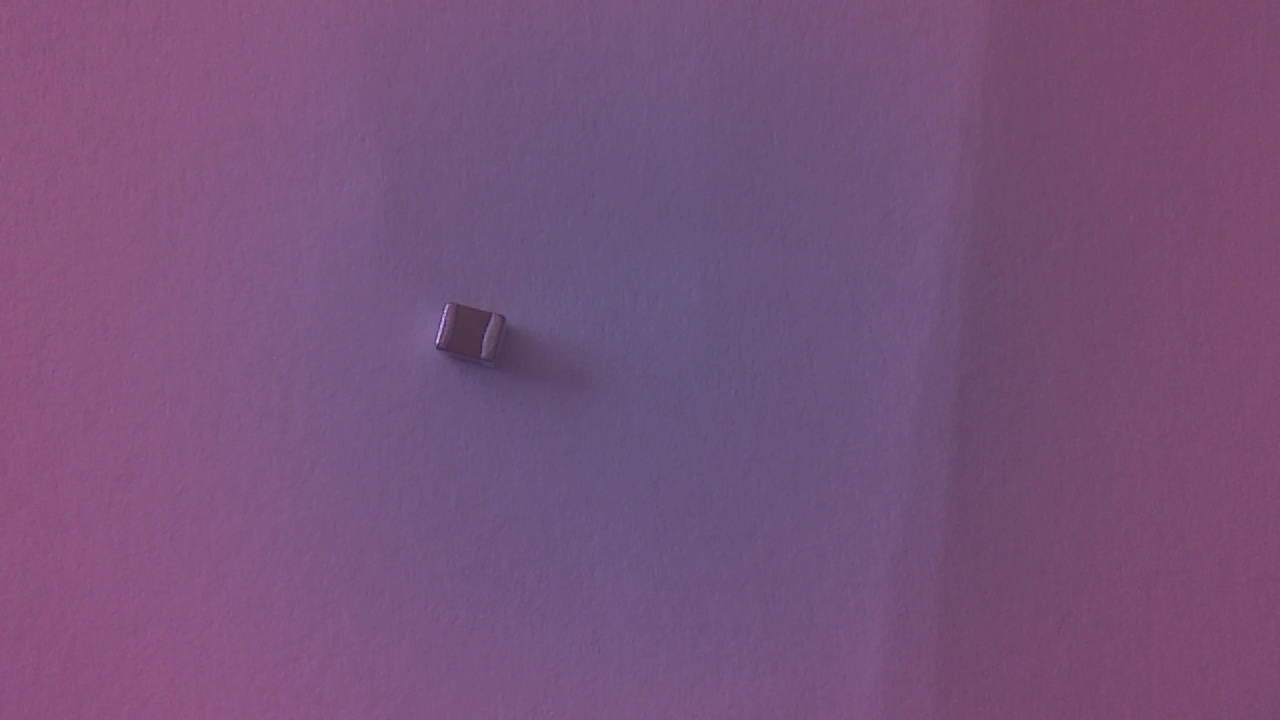Condensator: (436, 300, 515, 376)
